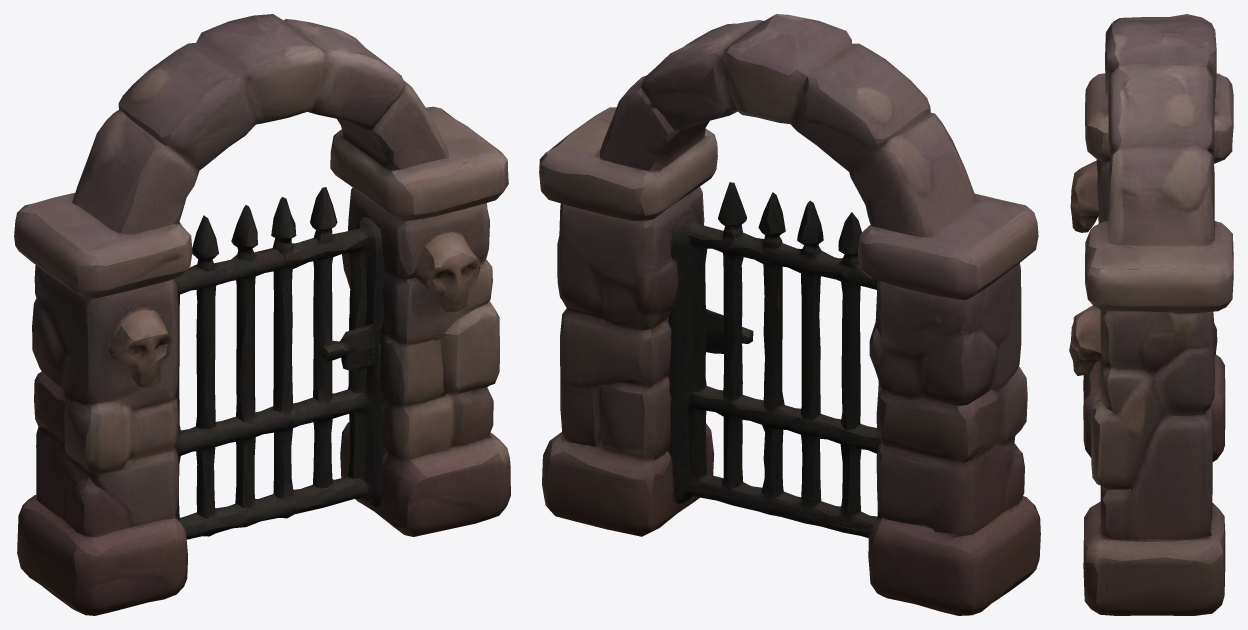
Rendered from a-stone-graveyard-gate-arch-with-154879.glb.
The picture shows the model from 3 angles, left to right: view 1: azimuth 30°, elevation 25°; view 2: azimuth 150°, elevation 25°; view 3: azimuth 270°, elevation 25°; orthographic projection. The views are drawn at different scales.
Visible parts, largest first — view 1: geometry_0; view 2: geometry_0; view 3: geometry_0.
Boxes of the visible parts, bbox=[...] form: geometry_0: bbox=[14, 14, 510, 615]; geometry_0: bbox=[539, 14, 1040, 615]; geometry_0: bbox=[1069, 14, 1233, 615].
Size of the model in its own units: 0.8902 by 1 by 0.3028.
Materials: 1 (1 with a texture image).
